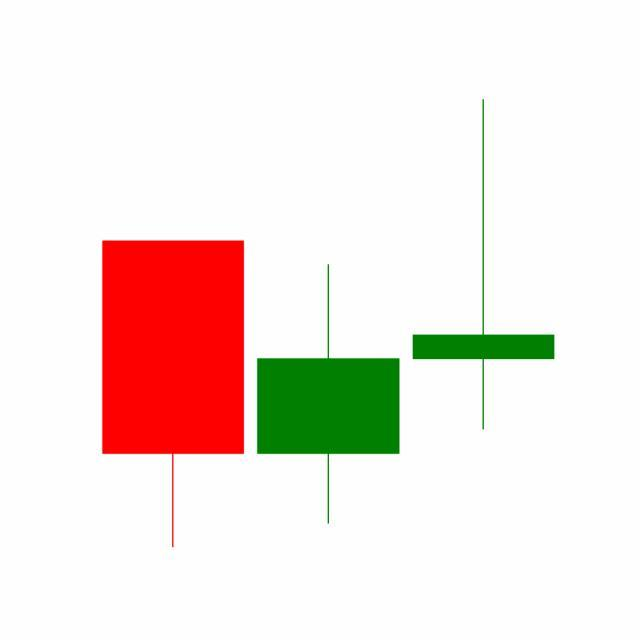Gravestone Doji: (406, 97, 562, 435)
